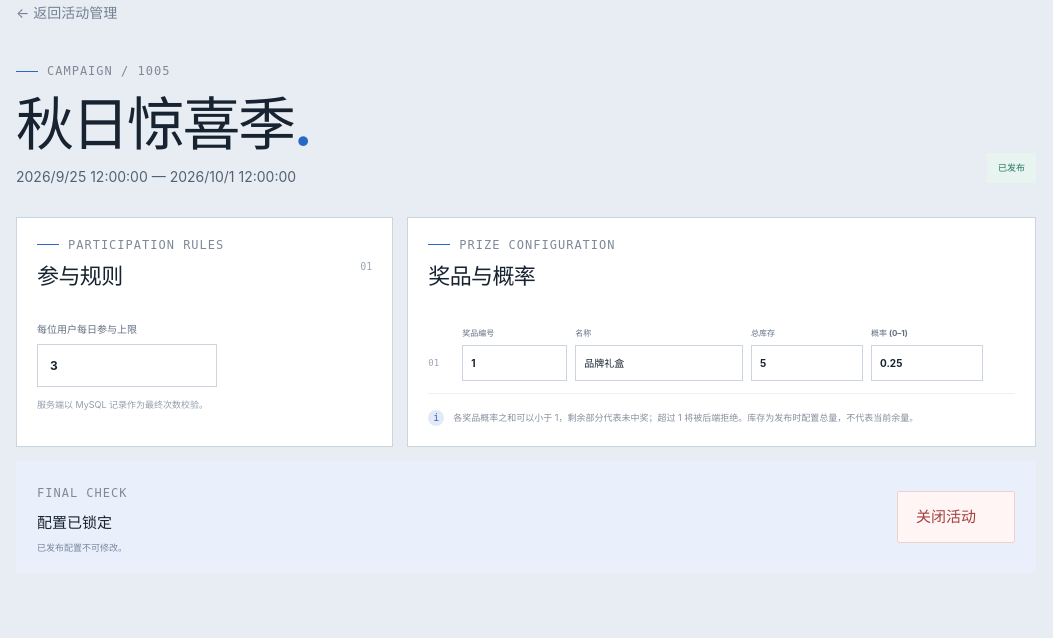
operator campaign configuration › locks a published configuration and can close the campaign
Expected: the field labelled "名称" is disabled, [575,345,743,381]
Step 1. Click the button with class "danger" → (956, 517), box [897,491,1015,543]
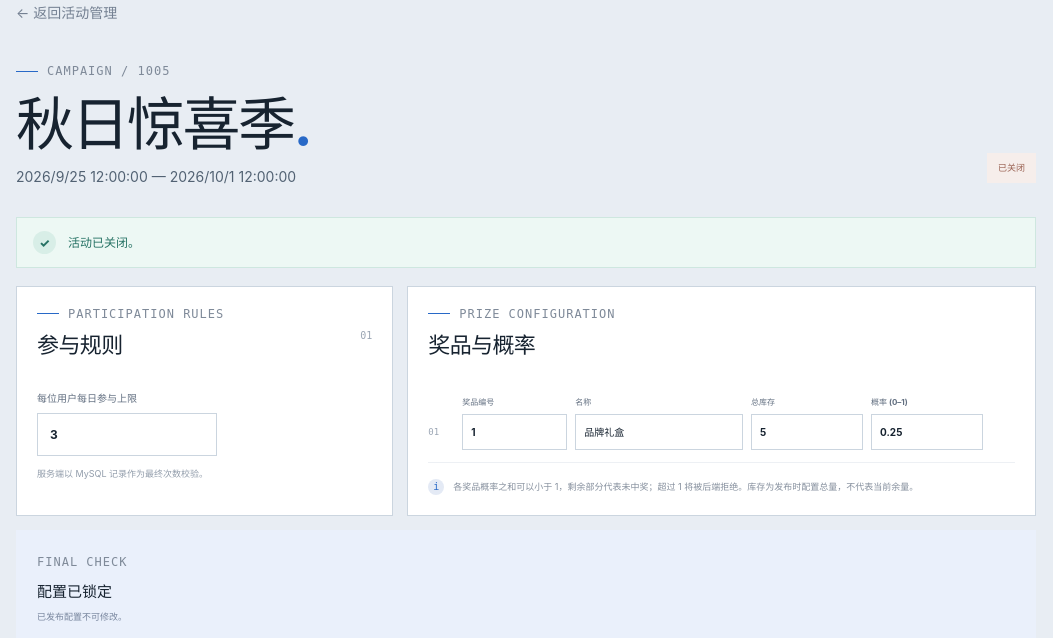
Now the text with class "large" reads "已关闭", box [998,162,1025,172]
